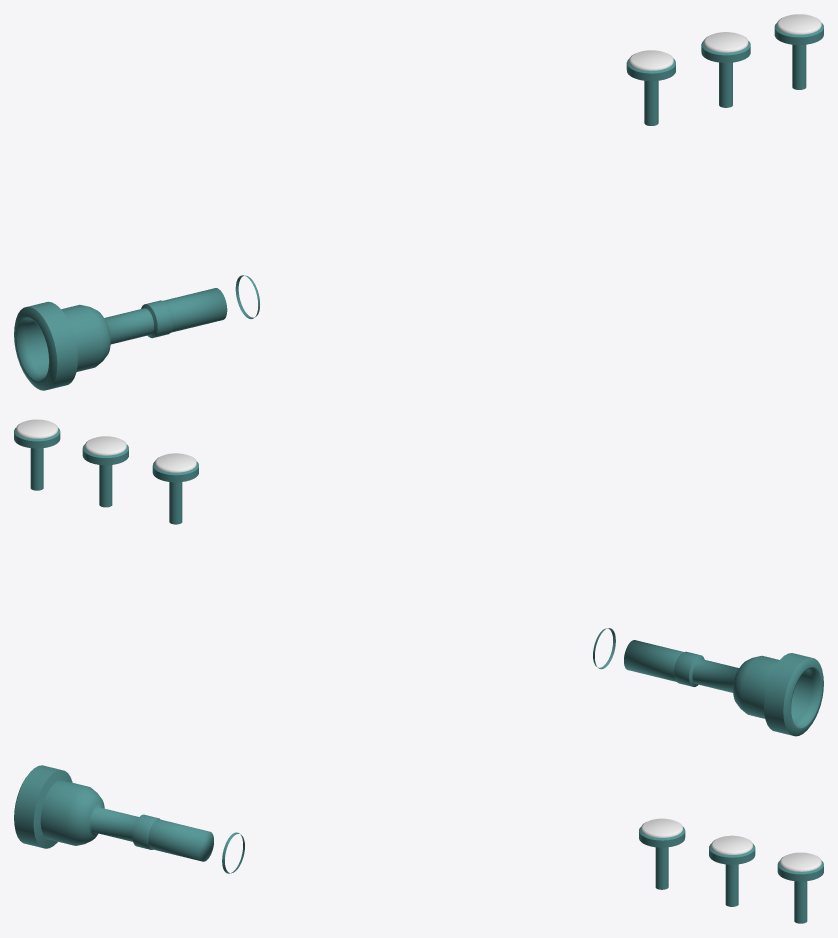
The model's file is pistonofficiel.glb.
3 views of the same model, one above another, from view 1: azimuth 30°, elevation 25°; view 2: azimuth 150°, elevation 25°; view 3: azimuth 330°, elevation 25° (orthographic). The views are drawn at different scales.
Visible parts, largest first — view 1: Cylinder.002, Cylinder.033, Cylinder.037, Cylinder.009, Cylinder.010, Cylinder.029; view 2: Cylinder.002, Cylinder.033, Cylinder.037, Cylinder.009, Cylinder.010, Cylinder.029; view 3: Cylinder.002, Cylinder.033, Cylinder.010, Cylinder.009, Cylinder.029, Cylinder.037, Cylinder.011.
Boxes of the visible parts, box(x1,y1,x2,y2) form: Cylinder.002: box(28, 301, 153, 389); Cylinder.033: box(627, 14, 823, 73); Cylinder.037: box(14, 306, 57, 390); Cylinder.009: box(644, 44, 806, 125); Cylinder.010: box(163, 288, 227, 332); Cylinder.029: box(626, 28, 823, 81); Cylinder.002: box(692, 653, 810, 735); Cylinder.033: box(14, 419, 198, 475); Cylinder.037: box(783, 657, 823, 736); Cylinder.009: box(30, 448, 182, 524); Cylinder.010: box(624, 640, 683, 681); Cylinder.029: box(14, 432, 198, 482); Cylinder.002: box(14, 765, 138, 847); Cylinder.033: box(639, 818, 823, 874); Cylinder.010: box(148, 819, 213, 861); Cylinder.009: box(655, 847, 807, 923); Cylinder.029: box(639, 831, 823, 881); Cylinder.037: box(14, 770, 72, 848); Cylinder.011: box(132, 814, 160, 849).
Size of the model in its own units: 4.46 by 0.8008 by 0.5733.
